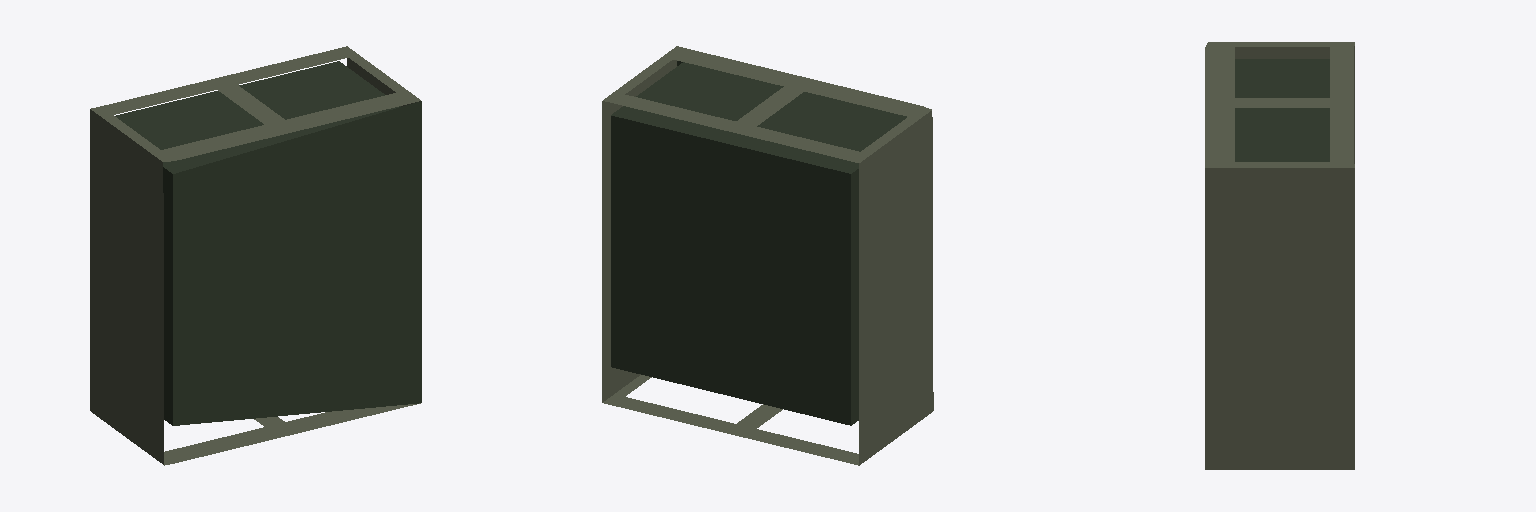
The picture shows the model from 3 angles: view 1: azimuth 30°, elevation 25°; view 2: azimuth 150°, elevation 25°; view 3: azimuth 270°, elevation 25°; orthographic projection.
Visible parts, largest first — view 1: pCube76.001_blinn5, pCube76.001_lambert6; view 2: pCube76.001_blinn5, pCube76.001_lambert6; view 3: pCube76.001_lambert6, pCube76.001_blinn5.
Part boxes in pixels (bbox=[...]): pCube76.001_blinn5: bbox=[115, 61, 421, 425]; pCube76.001_lambert6: bbox=[90, 46, 420, 465]; pCube76.001_blinn5: bbox=[611, 61, 906, 425]; pCube76.001_lambert6: bbox=[602, 46, 933, 465]; pCube76.001_lambert6: bbox=[1205, 42, 1354, 469]; pCube76.001_blinn5: bbox=[1235, 59, 1329, 161].
Size of the model in its own units: 1.07 by 1.2 by 0.5392.
2 materials, 2 textured.